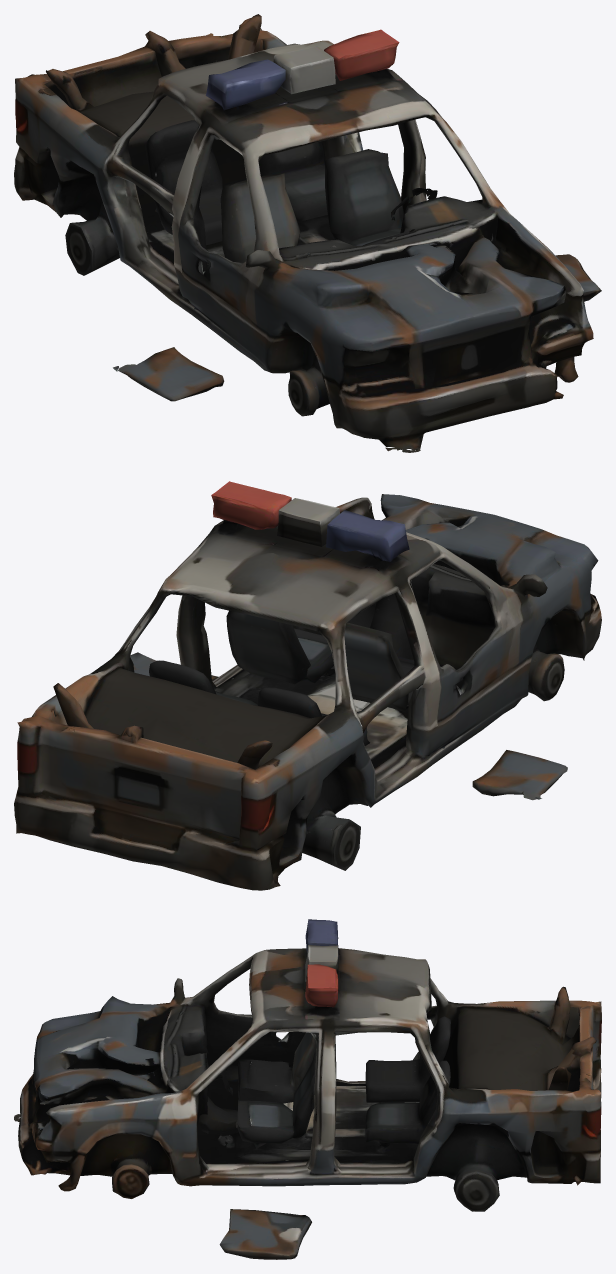
The model's file is SM_Vehicle_PoliceCar_02.fbx.
3 views of the same model, one above another, from view 1: azimuth 30°, elevation 25°; view 2: azimuth 150°, elevation 25°; view 3: azimuth 270°, elevation 25° (orthographic). The views are drawn at different scales.
Visible parts, largest first — view 1: SM_Vehicle_PoliceCar_02; view 2: SM_Vehicle_PoliceCar_02; view 3: SM_Vehicle_PoliceCar_02.
Part boxes in pixels (x1,y1,x2,y2): SM_Vehicle_PoliceCar_02: [14, 14, 601, 452]; SM_Vehicle_PoliceCar_02: [14, 481, 601, 890]; SM_Vehicle_PoliceCar_02: [14, 919, 601, 1259].
Size of the model in its own units: 0.7361 by 0.392 by 0.9943.
Materials: 1 (1 with a texture image).
